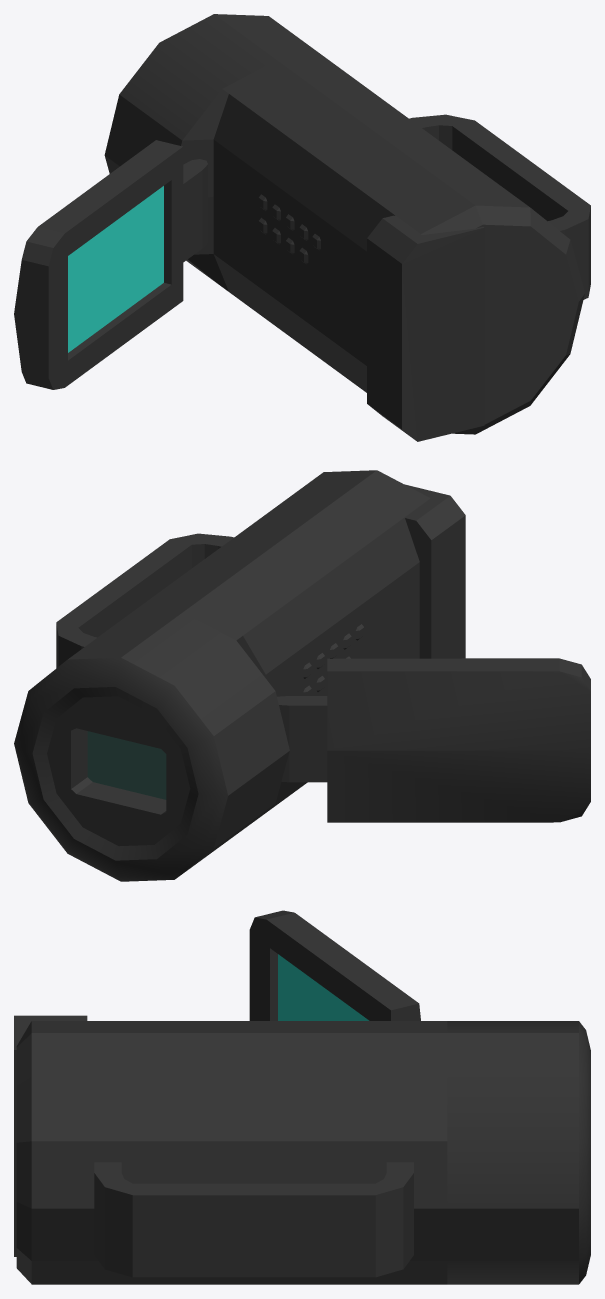
File: Camera.fbx
3 renders of one model, top to bottom at view 1: azimuth 30°, elevation 25°; view 2: azimuth 150°, elevation 25°; view 3: azimuth 270°, elevation 25°, orthographic. The views are drawn at different scales.
Parts seen in each view (by area): view 1: Camera; view 2: Camera; view 3: Camera.
Boxes of the visible parts, x1,y1,x2,y2 form: Camera: (14,14,590,441); Camera: (14,470,590,881); Camera: (14,910,590,1284).
Bounding box in the file's own units: 1.11 × 0.4829 × 1.05.
